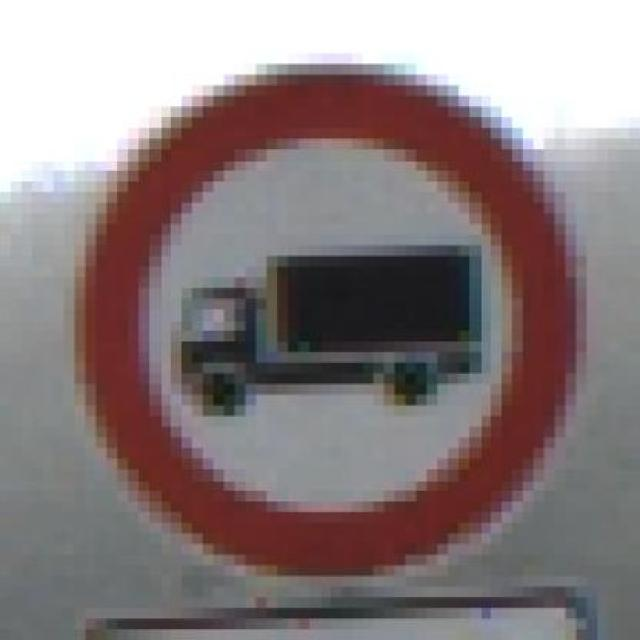Truck traffic is prohibited: (42, 64, 587, 587)
